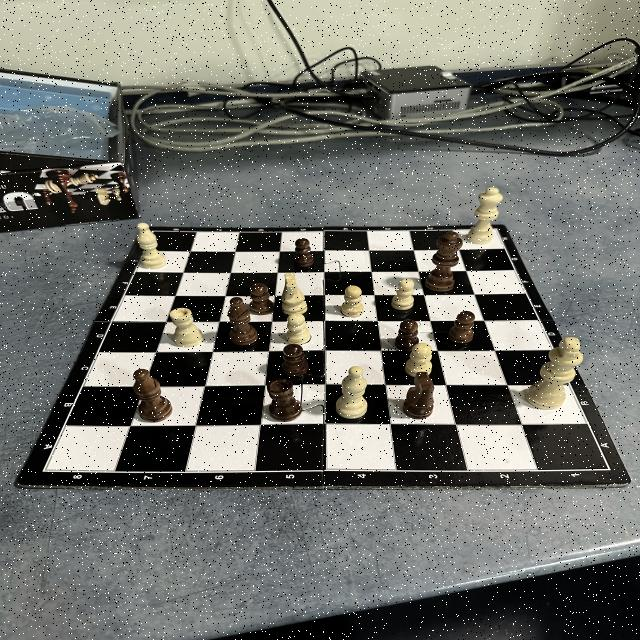Black-Bishop: (132, 368, 172, 422), (227, 298, 259, 346)
Black-Knight: (403, 372, 435, 420)
Black-Pawn: (448, 310, 476, 344), (281, 344, 309, 376), (249, 283, 275, 315), (394, 319, 418, 352), (293, 238, 315, 268)
Black-Queen: (424, 232, 464, 292)
Black-Rook: (266, 378, 302, 422)
White-Bishop: (336, 366, 368, 420), (135, 222, 167, 270)
White-King: (525, 336, 584, 410)
White-Knight: (280, 273, 308, 315)
White-Pawn: (390, 278, 416, 310), (340, 284, 364, 318), (404, 343, 432, 372), (286, 314, 312, 344)
White-Queen: (466, 187, 504, 245)
White-Rook: (170, 307, 204, 347)
